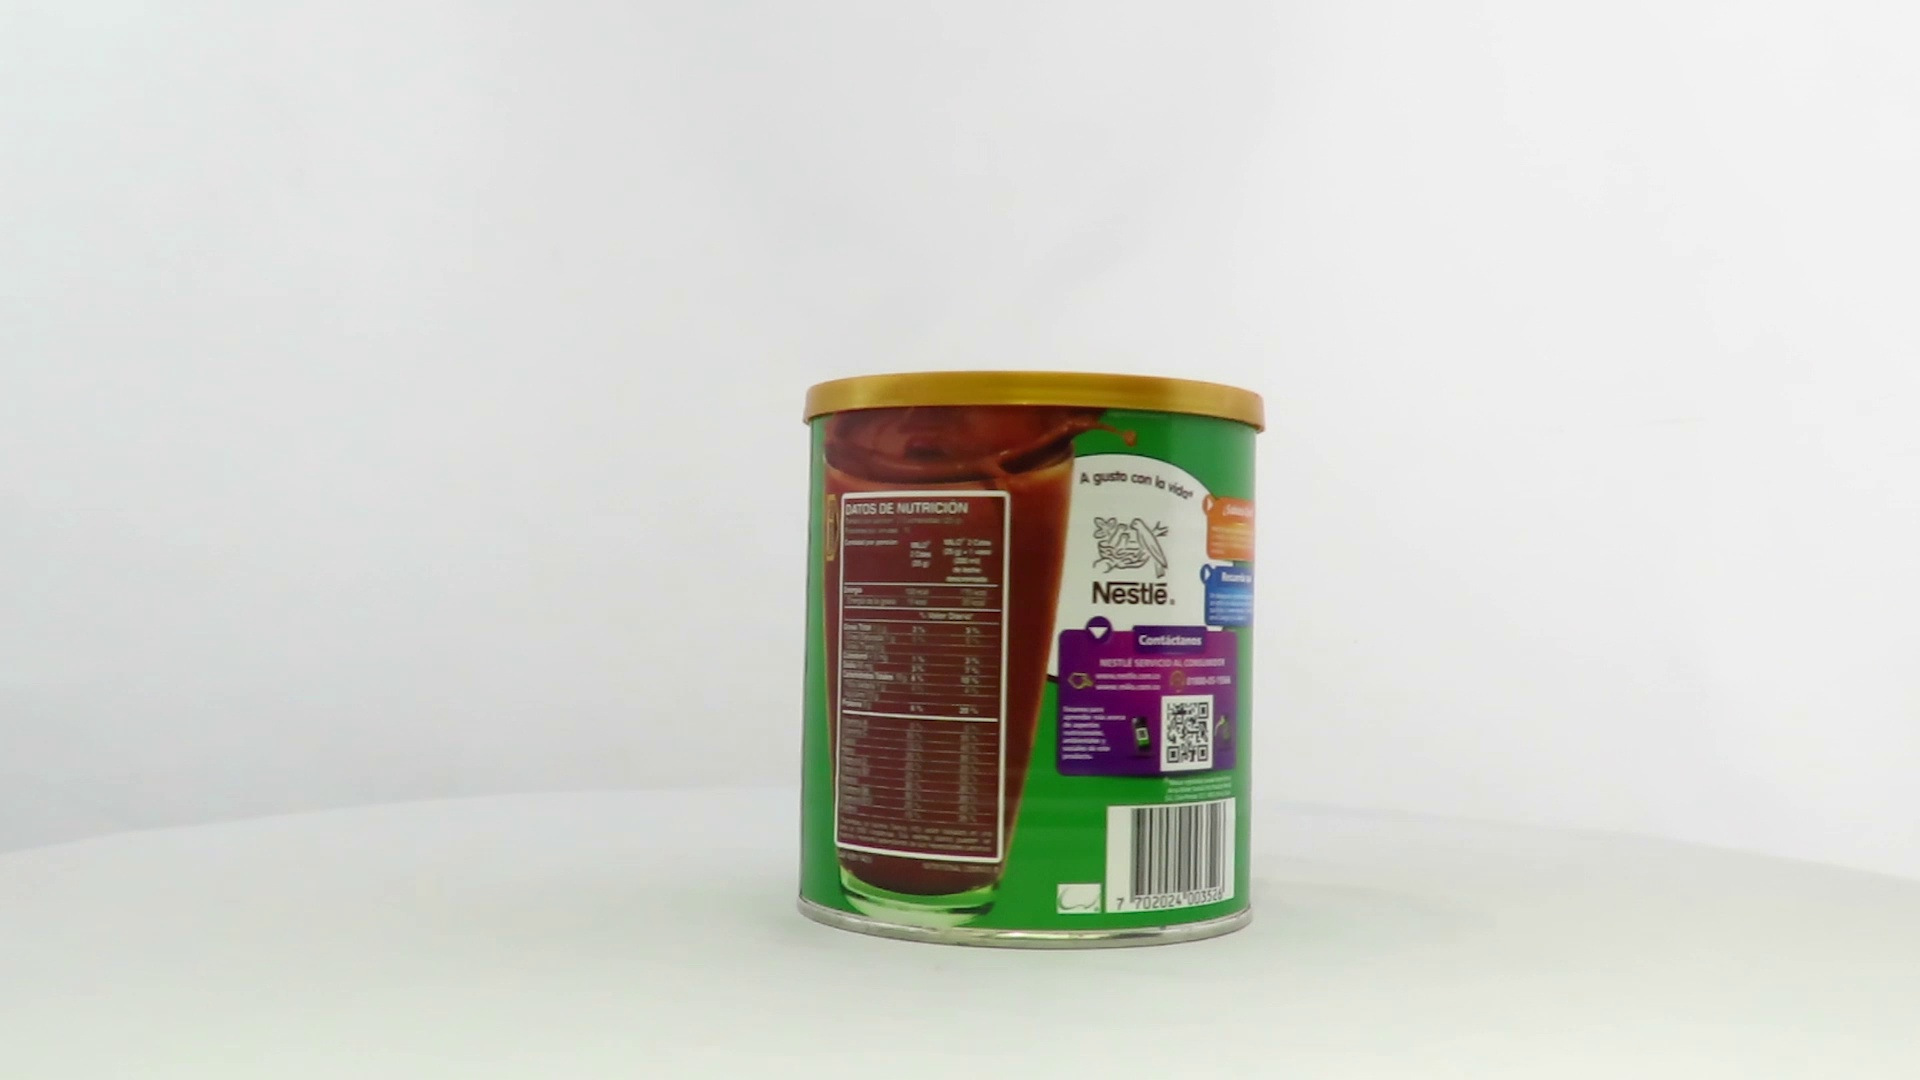COL0170203LAT40000: (791, 367, 1273, 957)
